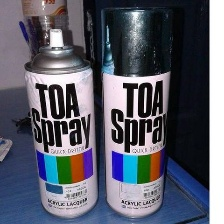aerosol_cans: (95, 2, 178, 222), (21, 26, 100, 223)
